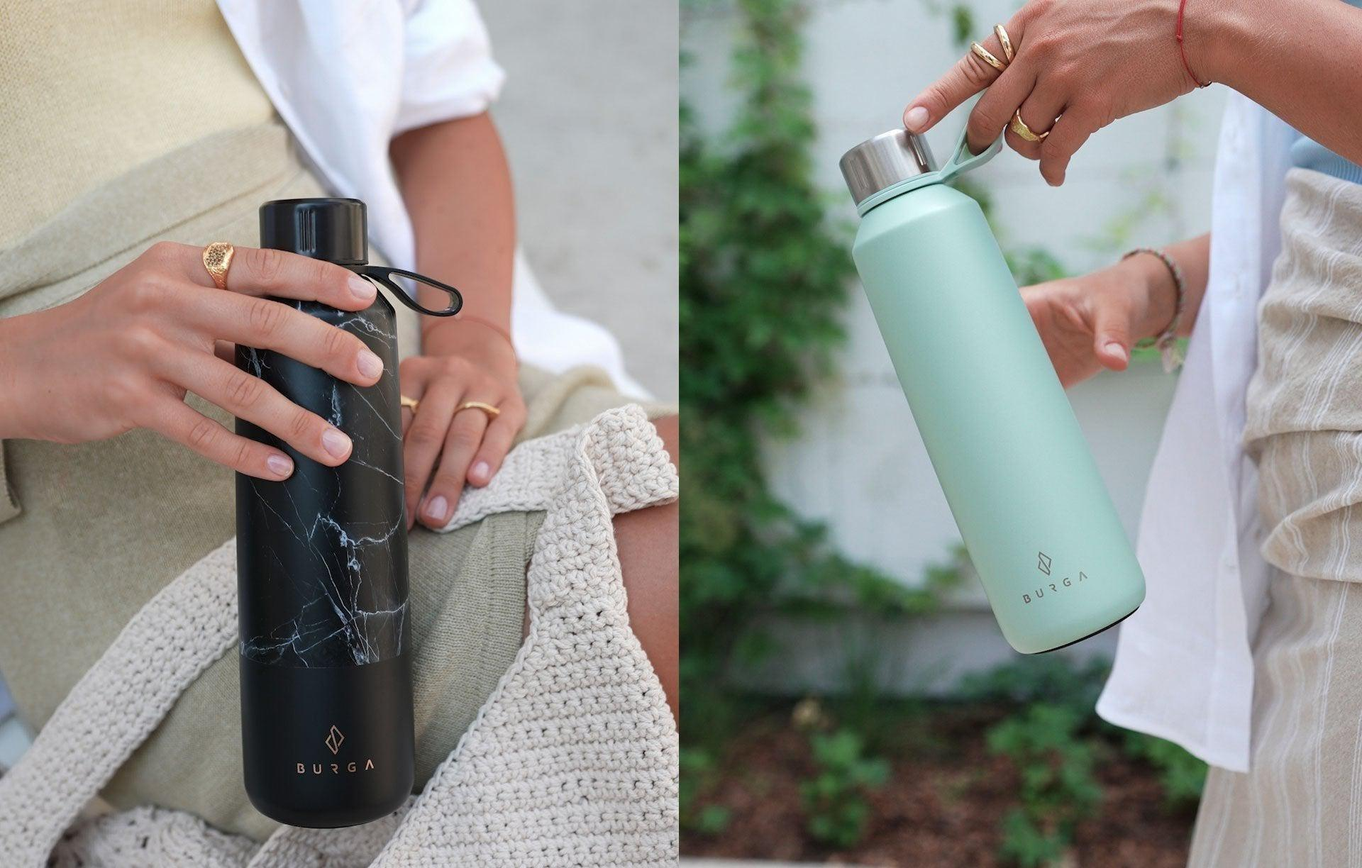gym bottle: (838, 123, 1146, 655), (220, 191, 419, 831)
